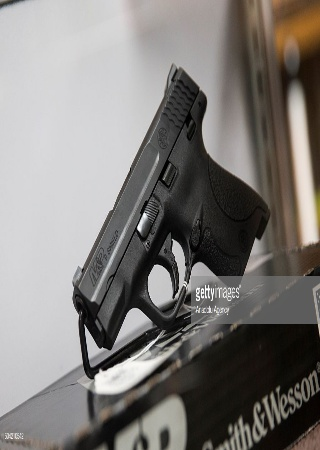handgun: (71, 53, 271, 349)
